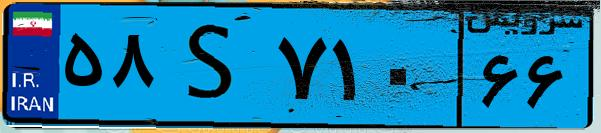0: (385, 28, 445, 110)
1: (330, 28, 385, 110)
5: (57, 26, 110, 100)
6: (475, 38, 525, 113), (525, 38, 570, 115)
7: (270, 28, 330, 110)
8: (110, 28, 158, 98)
S: (158, 12, 270, 120)
